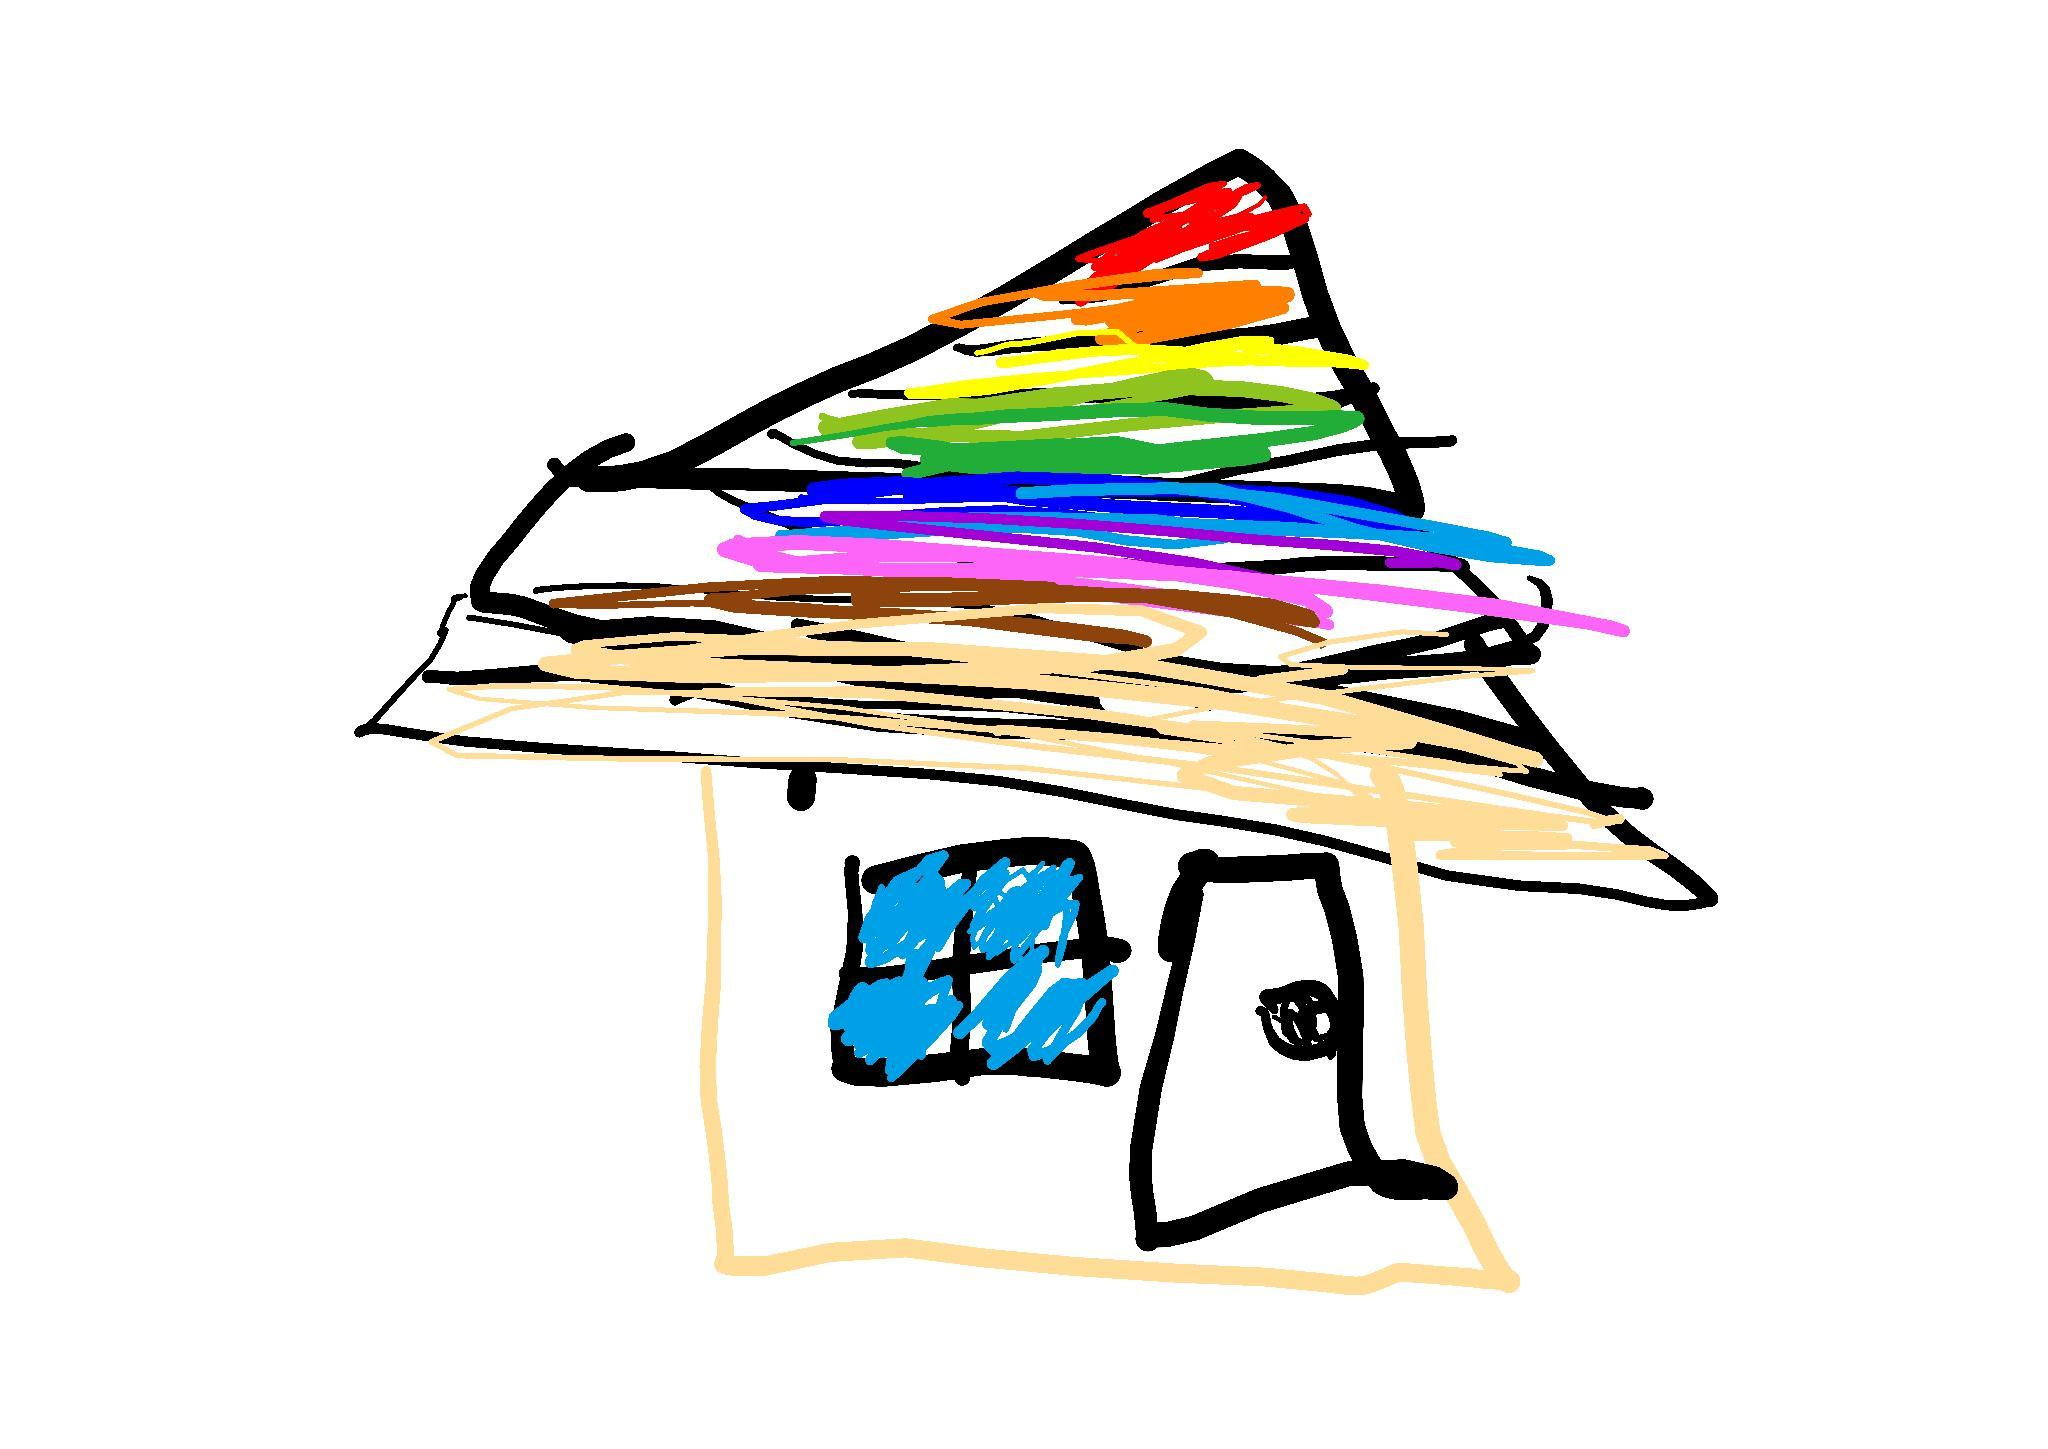door: (1132, 855, 1382, 1250)
house: (351, 168, 1712, 1292)
roof: (351, 152, 1734, 910)
wall: (706, 762, 1520, 1291)
window: (833, 844, 1106, 1080)
